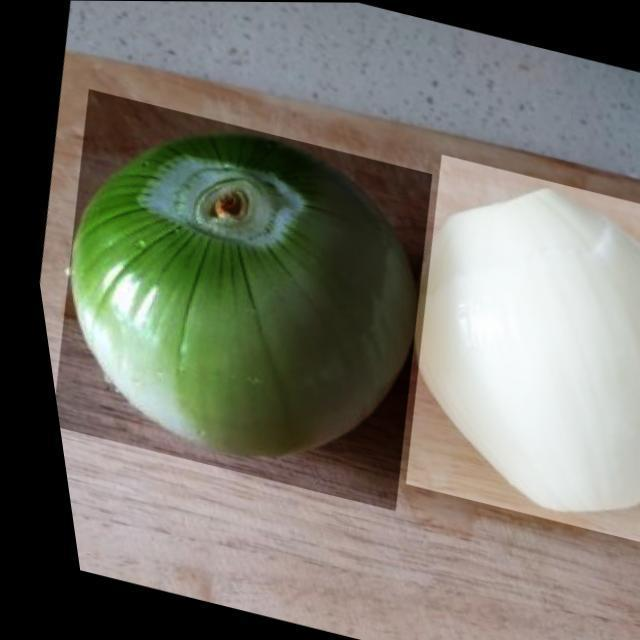Onion: (9, 88, 463, 510), (354, 154, 640, 548)
